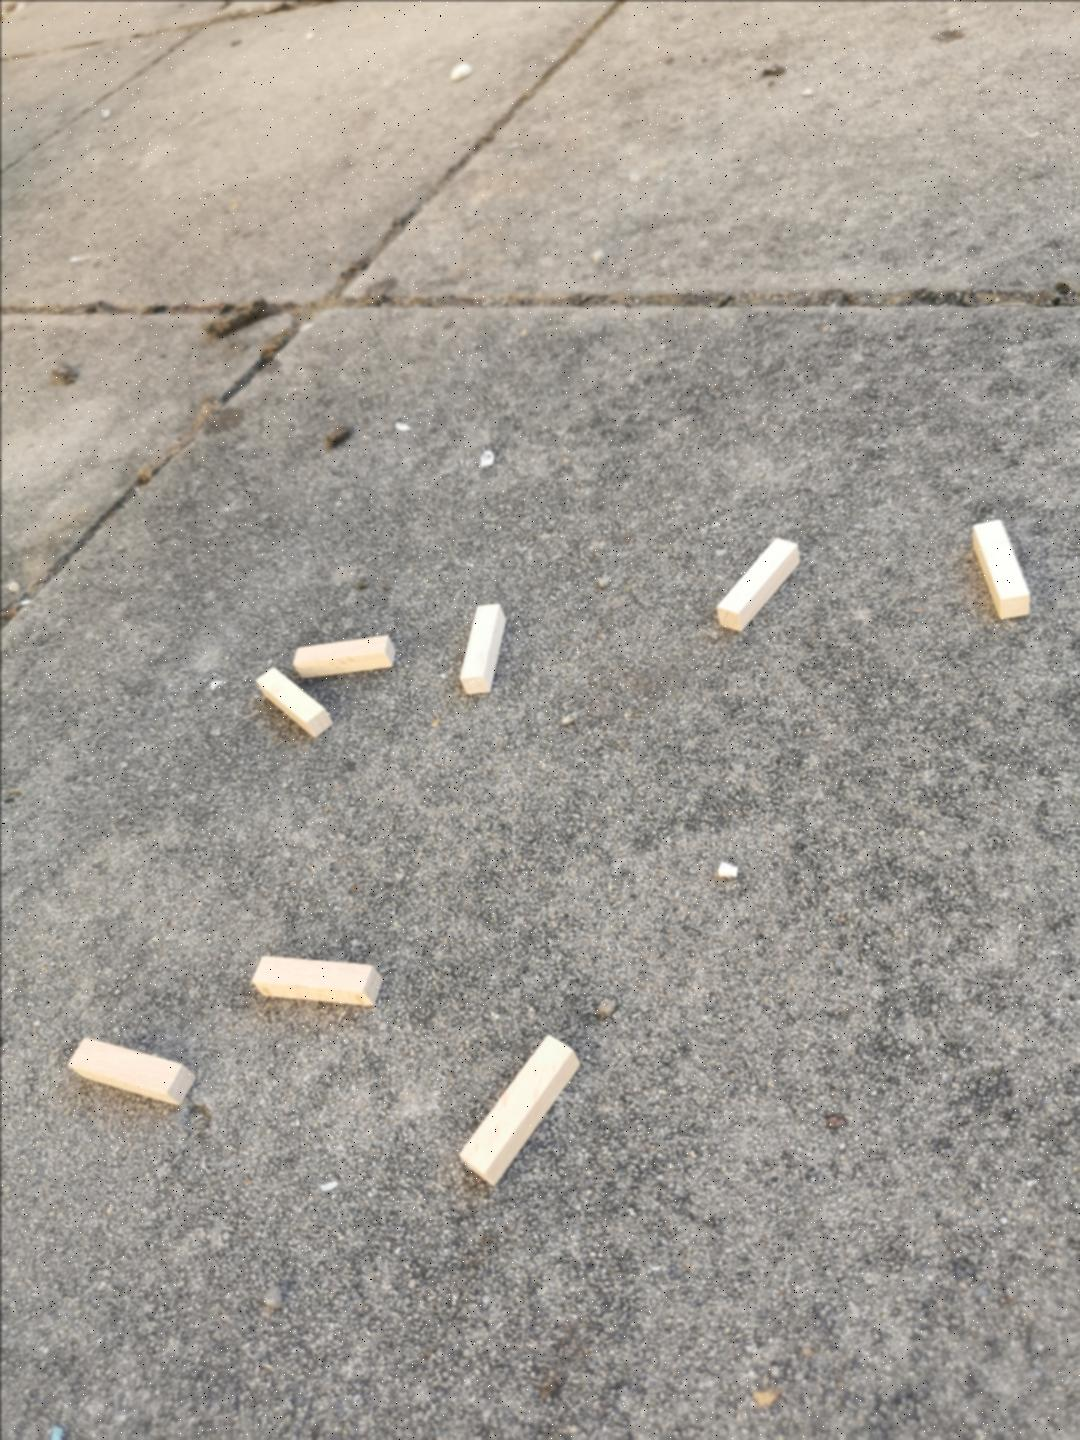jenga: (458, 1035, 580, 1184), (68, 1037, 194, 1106), (717, 537, 799, 630), (251, 956, 380, 1005), (970, 520, 1029, 619), (256, 667, 332, 737), (293, 636, 394, 678), (458, 604, 504, 695)
